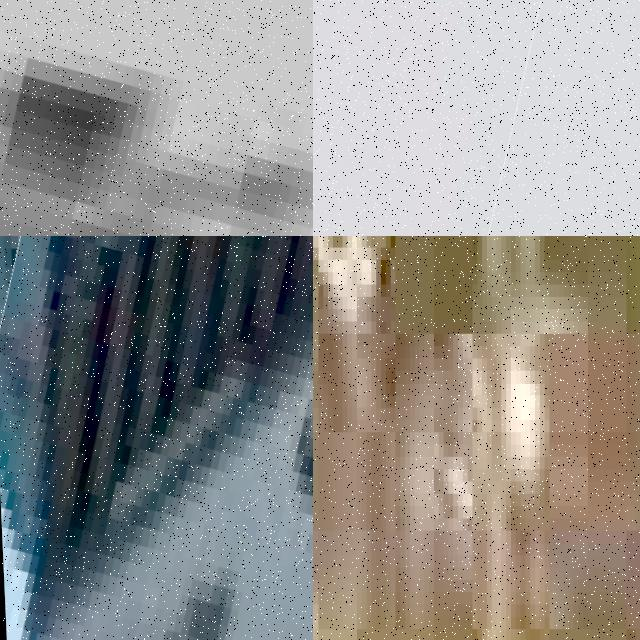drone: (0, 236, 313, 640), (0, 0, 313, 236), (313, 0, 543, 236)
